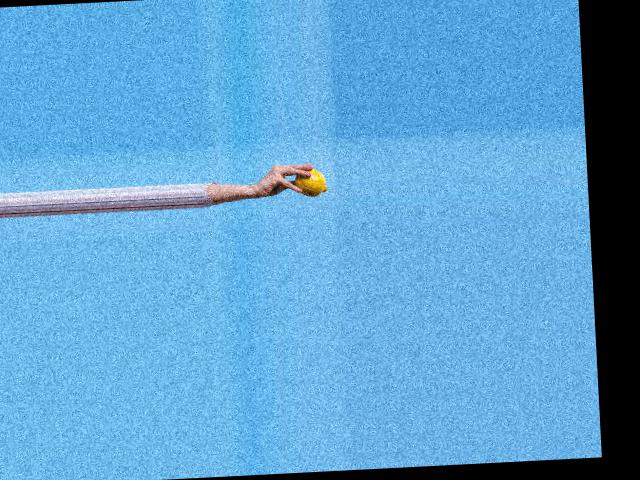lemon: (282, 146, 330, 200)
